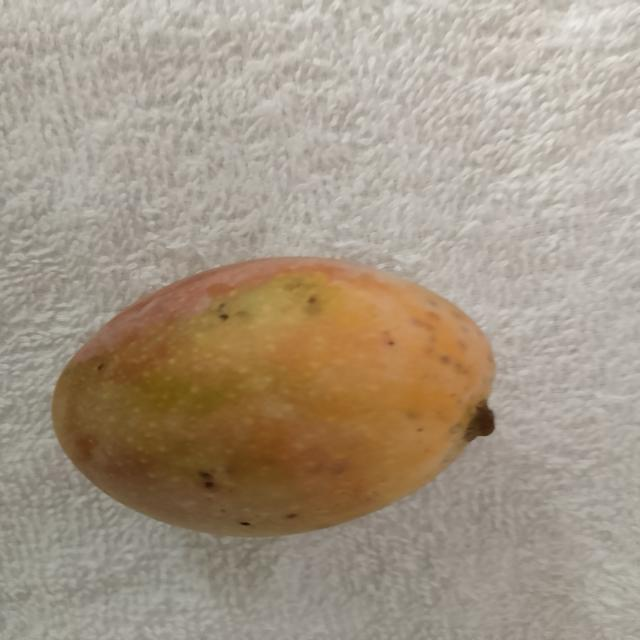mango: (53, 258, 494, 535)
